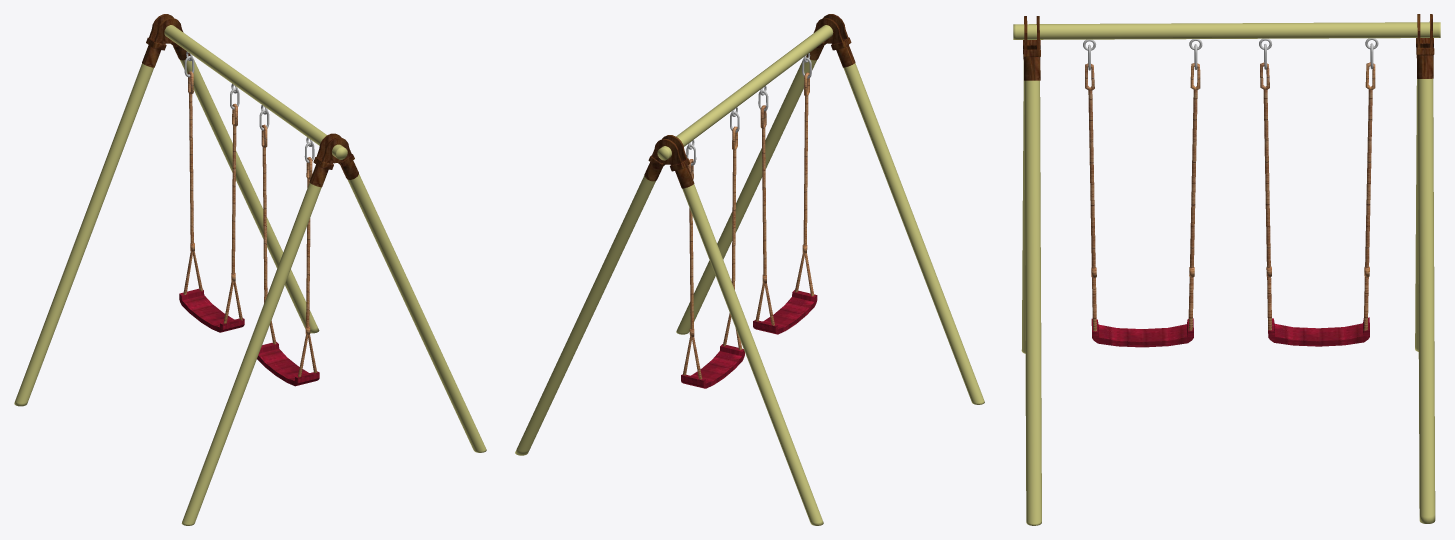
File: columpios.obj
3 renders of one model, left to right at view 1: azimuth 30°, elevation 25°; view 2: azimuth 150°, elevation 25°; view 3: azimuth 270°, elevation 25°, orthographic. The views are drawn at different scales.
Visible parts, largest first — view 1: EstructuraColumpios, MetalColumpio, Circle_001_Circle_002, Circle_000_Circle_004, Cube_001_Cube_002, Cube_Cube_001; view 2: EstructuraColumpios, MetalColumpio, Circle_000_Circle_004, Circle_001_Circle_002, Cube_Cube_001, Cube_001_Cube_002; view 3: EstructuraColumpios, Circle_001_Circle_002, Circle_000_Circle_004, Cube_Cube_001, Cube_001_Cube_002, MetalColumpio.
Part boxes in pixels (left/top/right/bottom): EstructuraColumpios: left=14, top=25, right=486, bottom=525; MetalColumpio: left=142, top=14, right=358, bottom=187; Circle_001_Circle_002: left=183, top=71, right=242, bottom=323; Circle_000_Circle_004: left=261, top=124, right=317, bottom=377; Cube_001_Cube_002: left=179, top=288, right=244, bottom=332; Cube_Cube_001: left=257, top=341, right=319, bottom=386; EstructuraColumpios: left=515, top=25, right=984, bottom=525; MetalColumpio: left=644, top=14, right=855, bottom=188; Circle_000_Circle_004: left=755, top=72, right=814, bottom=325; Circle_001_Circle_002: left=682, top=126, right=742, bottom=379; Cube_Cube_001: left=753, top=290, right=817, bottom=334; Cube_001_Cube_002: left=681, top=344, right=744, bottom=388; EstructuraColumpios: left=1013, top=22, right=1440, bottom=525; Circle_001_Circle_002: left=1260, top=62, right=1375, bottom=330; Circle_000_Circle_004: left=1085, top=63, right=1200, bottom=331; Cube_Cube_001: left=1091, top=318, right=1193, bottom=347; Cube_001_Cube_002: left=1268, top=317, right=1369, bottom=346; MetalColumpio: left=1023, top=14, right=1434, bottom=80.
Bounding box in the file's own units: 2.57 × 2.79 × 2.58.
